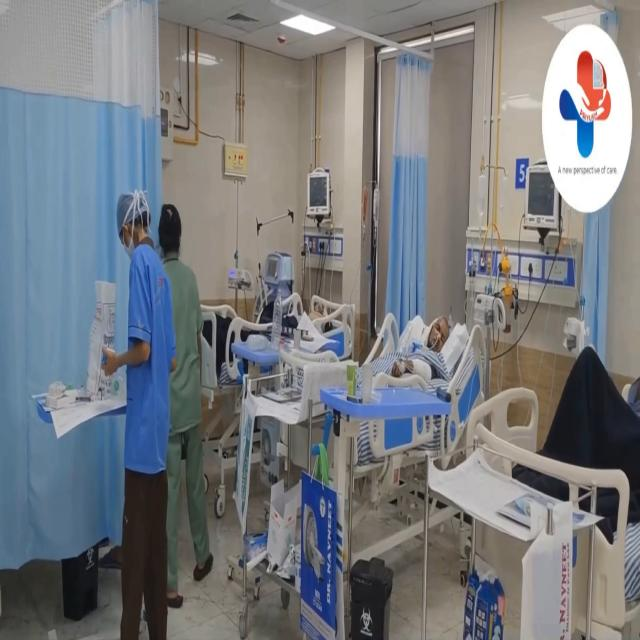Movement-NO: (386, 281, 456, 406)
